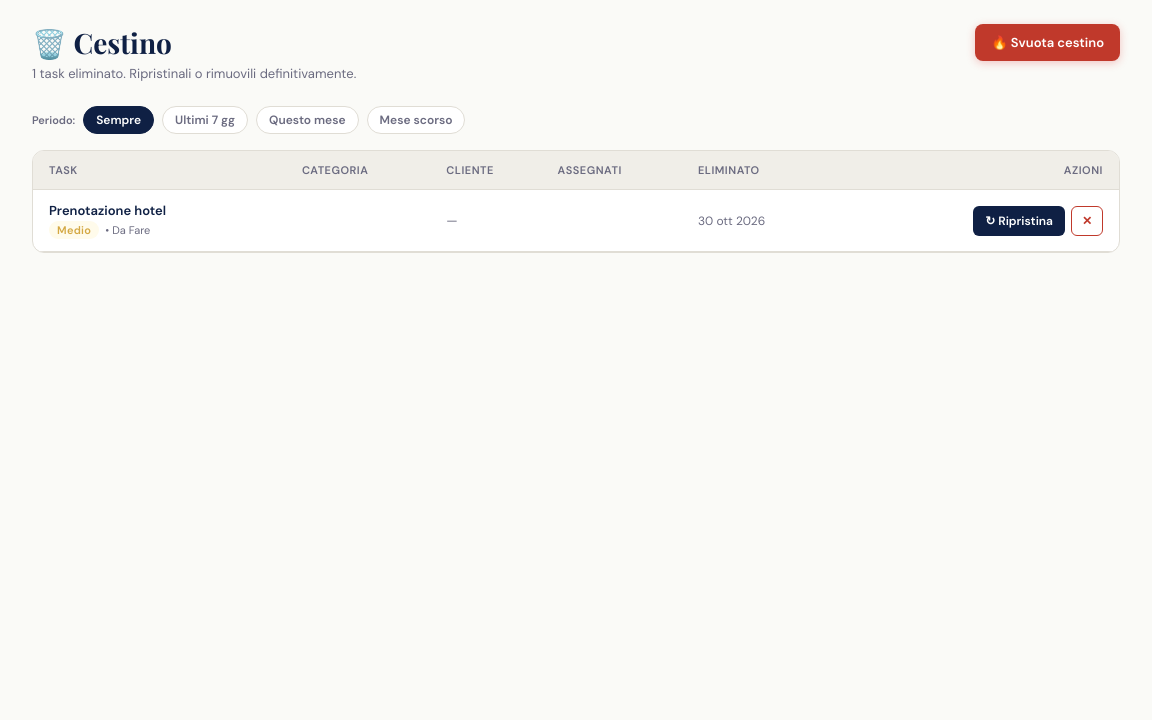
Card modali — semantica di dialogo e nessun transform › Trash: la card di ripristino è un dialogo senza transform (ci vive dentro il DateTimePicker)
Click the button titled "Ripristina con modifica" at (1019, 220), box [973,206,1065,236]
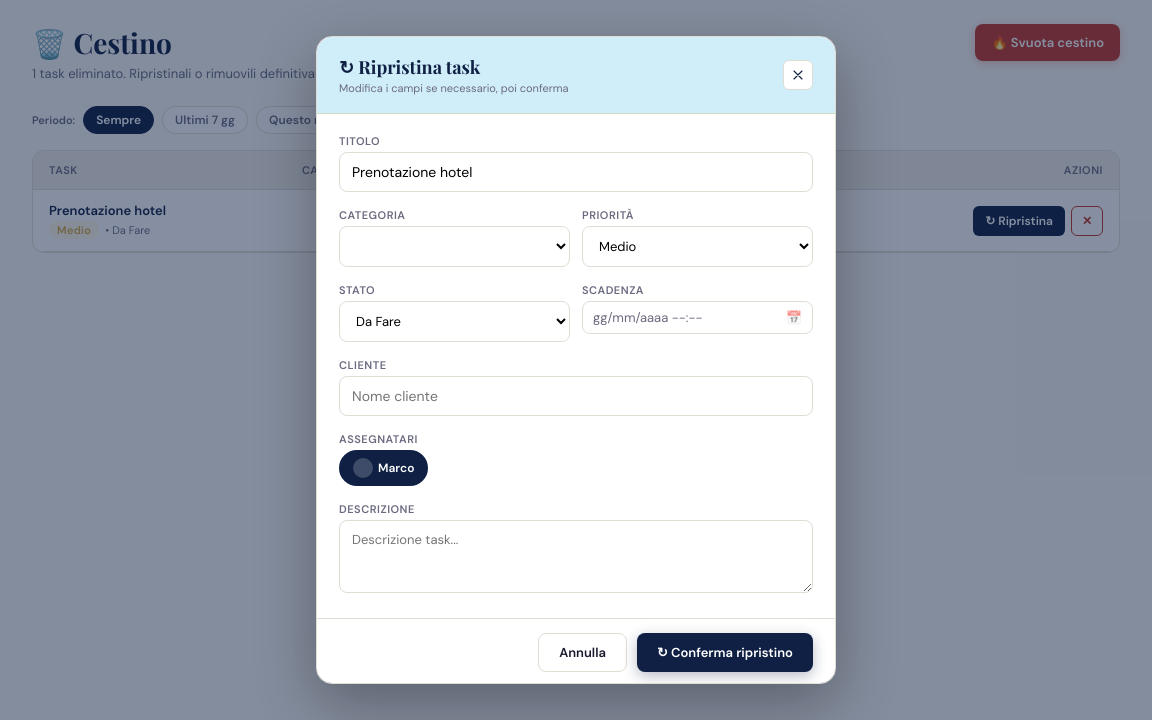
expect the text "↻ Ripristina task" is shown: met, box [339,55,480,79]
